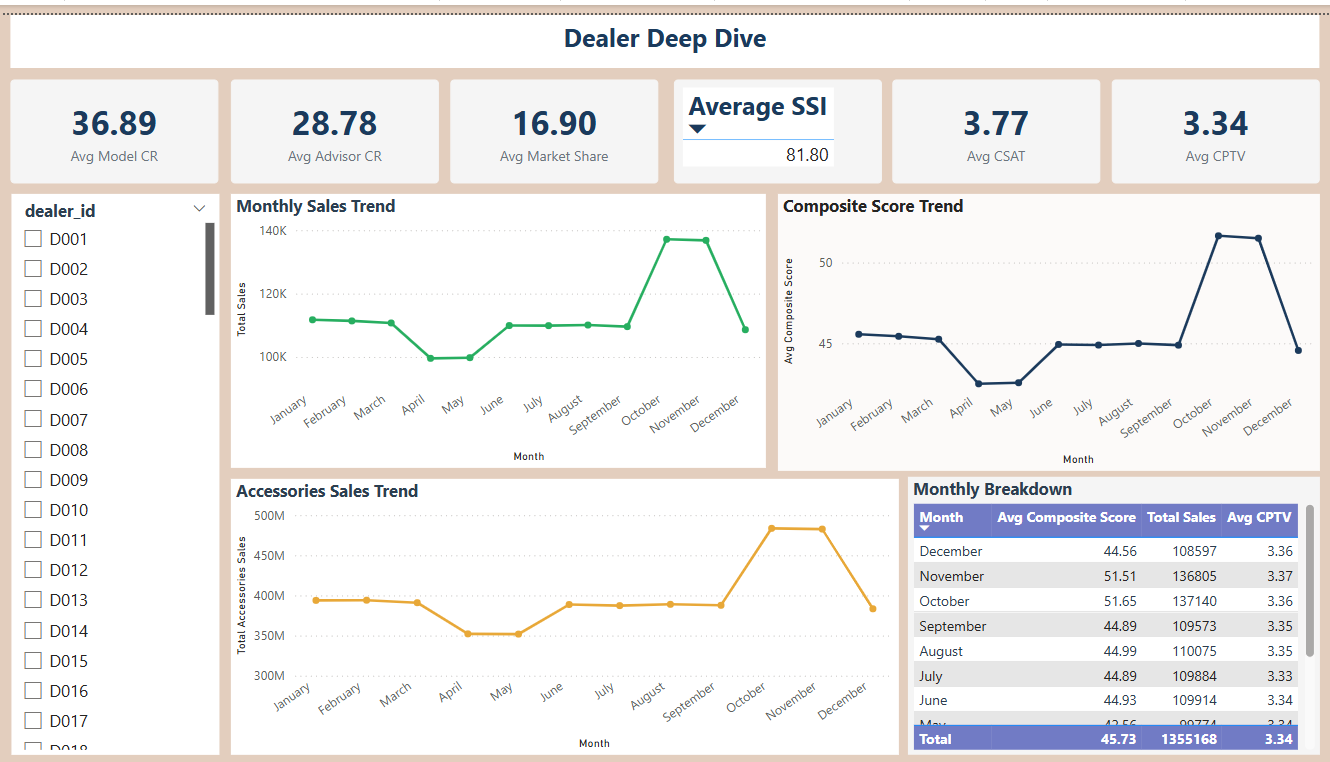

Layout of this report page (visuals, bound fields, positions):
{"tool":"powerbi","page":{"name":"2. Dealer Deep Dive","canvas":[1280,720],"ordinal":1},"visuals":[{"type":"textbox","box":[10.2,0,1259.2,51],"z":0},{"type":"card","fields":{"Values":["dealer_kpi_with_anomalies.Avg Model CR"]},"box":[10.2,62.2,200,100],"z":1000},{"type":"card","fields":{"Values":["dealer_kpi_with_anomalies.Avg Advisor CR"]},"box":[222.4,62.2,200,100],"z":2000},{"type":"card","fields":{"Values":["dealer_kpi_with_anomalies.Avg CSAT"]},"box":[858.2,62.2,200,100],"z":3000},{"type":"card","fields":{"Values":["dealer_kpi_with_anomalies.Avg Market Share"]},"box":[432.7,62.2,200,100],"z":4000},{"type":"card","fields":{"Values":["dealer_kpi_with_anomalies.Avg CPTV"]},"box":[1069.4,62.2,200,100],"z":5000},{"type":"tableEx","fields":{"Values":["dealer_kpi_with_anomalies.Avg SSI"]},"box":[648,62.2,200,100],"z":6000},{"type":"slicer","fields":{"Values":["dealer_master.dealer_id"]},"box":[10.6,172.1,200,538.5],"z":7000},{"type":"lineChart","title":"Composite Score Trend","fields":{"Y":["dealer_kpi_with_anomalies.Avg Composite Score"],"Category":["DimDate.Date.Variation.Date Hierarchy.Month"]},"box":[748.1,172.1,521.2,266.3],"z":8000},{"type":"lineChart","title":"Monthly Sales Trend","fields":{"Y":["dealer_kpi_with_anomalies.Total Sales"],"Category":["DimDate.Date.Variation.Date Hierarchy.Month"]},"box":[222.1,172.1,514.4,262.5],"z":9000},{"type":"lineChart","title":"Accessories Sales Trend","fields":{"Category":["DimDate.Date.Variation.Date Hierarchy.Month"],"Y":["dealer_kpi_with_anomalies.Total Accessories Sales"]},"box":[222.1,446.2,642.3,264.4],"z":10000},{"type":"tableEx","title":"Monthly Breakdown","fields":{"Values":["DimDate.Date.Variation.Date Hierarchy.Month","dealer_kpi_with_anomalies.Avg Composite Score","dealer_kpi_with_anomalies.Total Sales","dealer_kpi_with_anomalies.Avg CPTV"]},"box":[873.1,444.2,396.2,266.3],"z":11000}]}

Visuals, with their boxes in screenshot pixels (x1, y1, x2, y2), scaled from the page's 1280x720 canvas onto the 1330x762 screenshot:
textbox: locate(11, 0, 1319, 54)
card - dealer_kpi_with_anomalies.Avg Model CR: locate(11, 66, 218, 172)
card - dealer_kpi_with_anomalies.Avg Advisor CR: locate(231, 66, 439, 172)
card - dealer_kpi_with_anomalies.Avg CSAT: locate(892, 66, 1100, 172)
card - dealer_kpi_with_anomalies.Avg Market Share: locate(450, 66, 657, 172)
card - dealer_kpi_with_anomalies.Avg CPTV: locate(1111, 66, 1319, 172)
tableEx - dealer_kpi_with_anomalies.Avg SSI: locate(673, 66, 881, 172)
slicer - dealer_master.dealer_id: locate(11, 182, 219, 752)
"Composite Score Trend" lineChart: locate(777, 182, 1319, 464)
"Monthly Sales Trend" lineChart: locate(231, 182, 765, 460)
"Accessories Sales Trend" lineChart: locate(231, 472, 898, 752)
"Monthly Breakdown" tableEx: locate(907, 470, 1319, 752)
